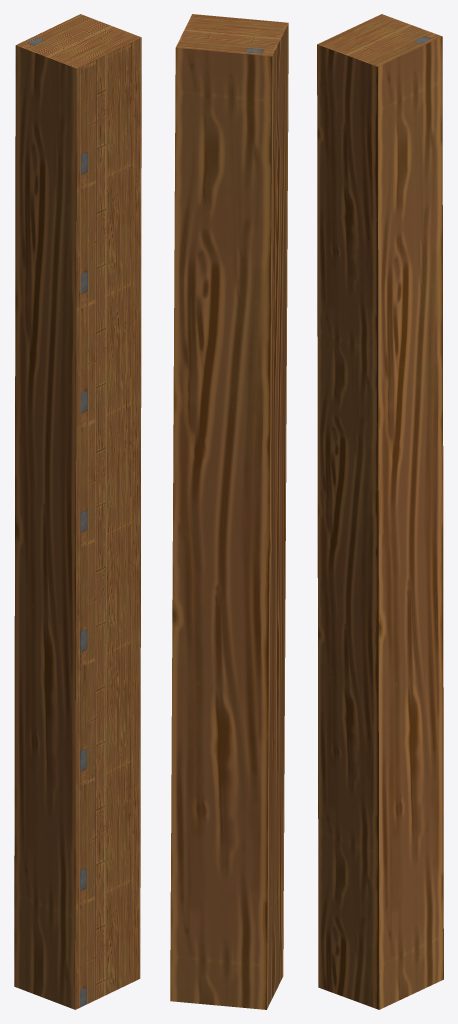
3 views of the same model, side by side, from view 1: azimuth 90°, elevation 25°; view 2: azimuth 210°, elevation 25°; view 3: azimuth 270°, elevation 25° (orthographic).
Visible parts, largest first — view 1: Cube.1906; view 2: Cube.1906; view 3: Cube.1906.
Part boxes in pixels (x1,y1,x2,y2): Cube.1906: (14, 14, 141, 1009); Cube.1906: (170, 14, 288, 1009); Cube.1906: (317, 14, 443, 1009).
Size of the model in its own units: 75.39 by 585 by 71.44.
Materials: 1 (1 with a texture image).
